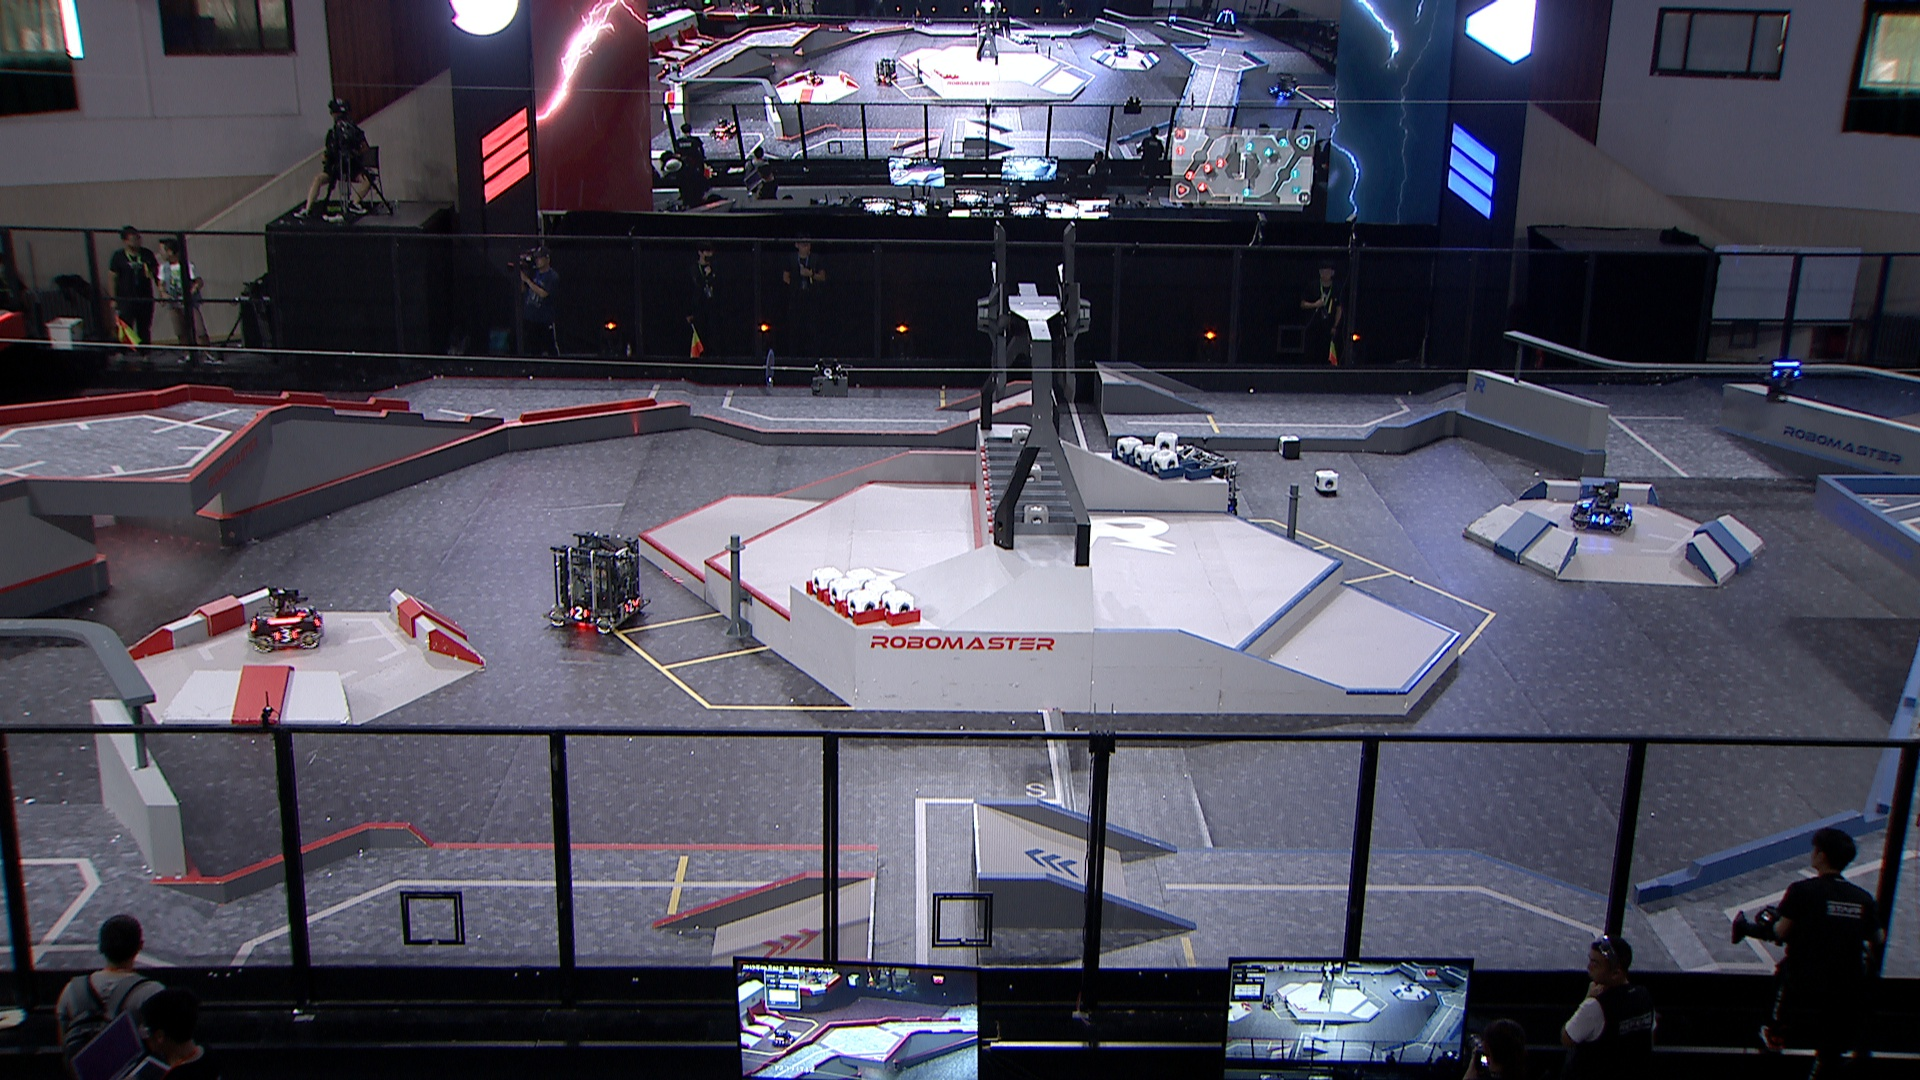armor: (272, 626, 299, 645), (1770, 367, 1801, 381), (568, 604, 589, 621), (1590, 513, 1613, 526), (622, 599, 640, 616), (294, 604, 313, 618)
car: (539, 531, 651, 636), (1156, 443, 1238, 526), (243, 585, 324, 654), (1569, 480, 1634, 534)
ignore: (1267, 73, 1298, 100), (874, 57, 899, 87), (707, 117, 738, 140), (1211, 8, 1238, 33), (803, 69, 823, 86), (1112, 44, 1130, 59)
watcher: (1759, 353, 1803, 404)
